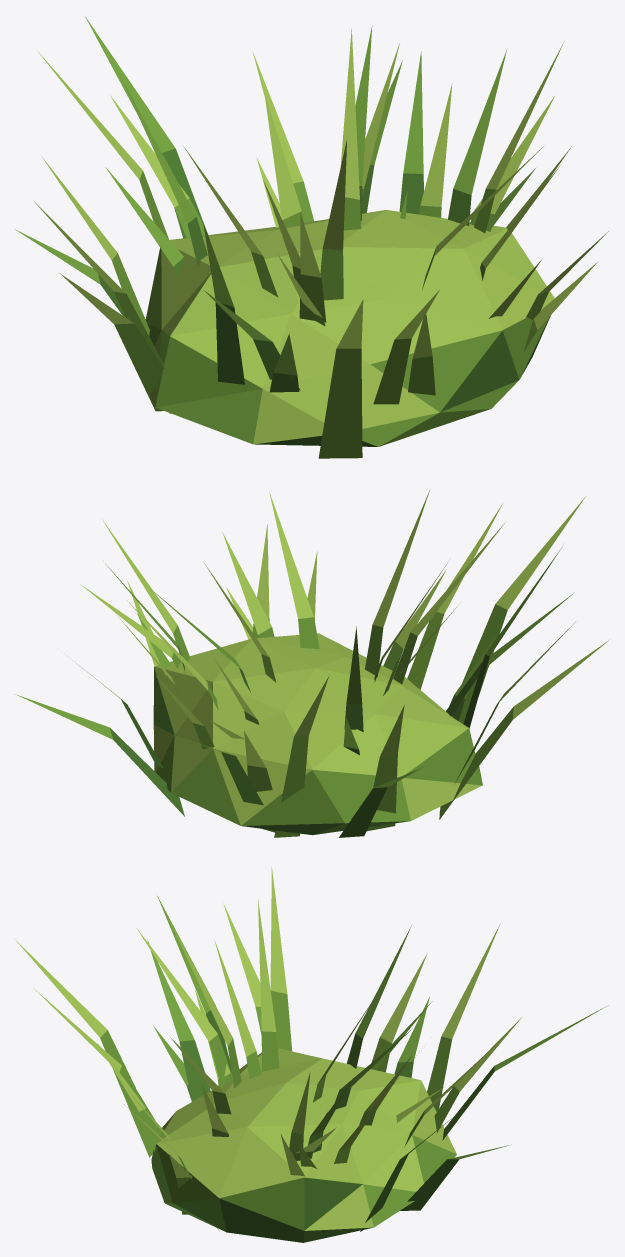
File: G14_DenseGrassMound.glb
3 views of the same model, one above another, from view 1: azimuth 30°, elevation 25°; view 2: azimuth 150°, elevation 25°; view 3: azimuth 270°, elevation 25° (orthographic). The views are drawn at different scales.
Parts seen in each view (by area): view 1: G14_DenseGrassMound; view 2: G14_DenseGrassMound; view 3: G14_DenseGrassMound.
Part boxes in pixels (x1,y1,x2,y2): G14_DenseGrassMound: [15, 16, 608, 458]; G14_DenseGrassMound: [15, 489, 608, 837]; G14_DenseGrassMound: [15, 867, 608, 1242].
Size of the model in its own units: 2 by 1.05 by 2.37.
